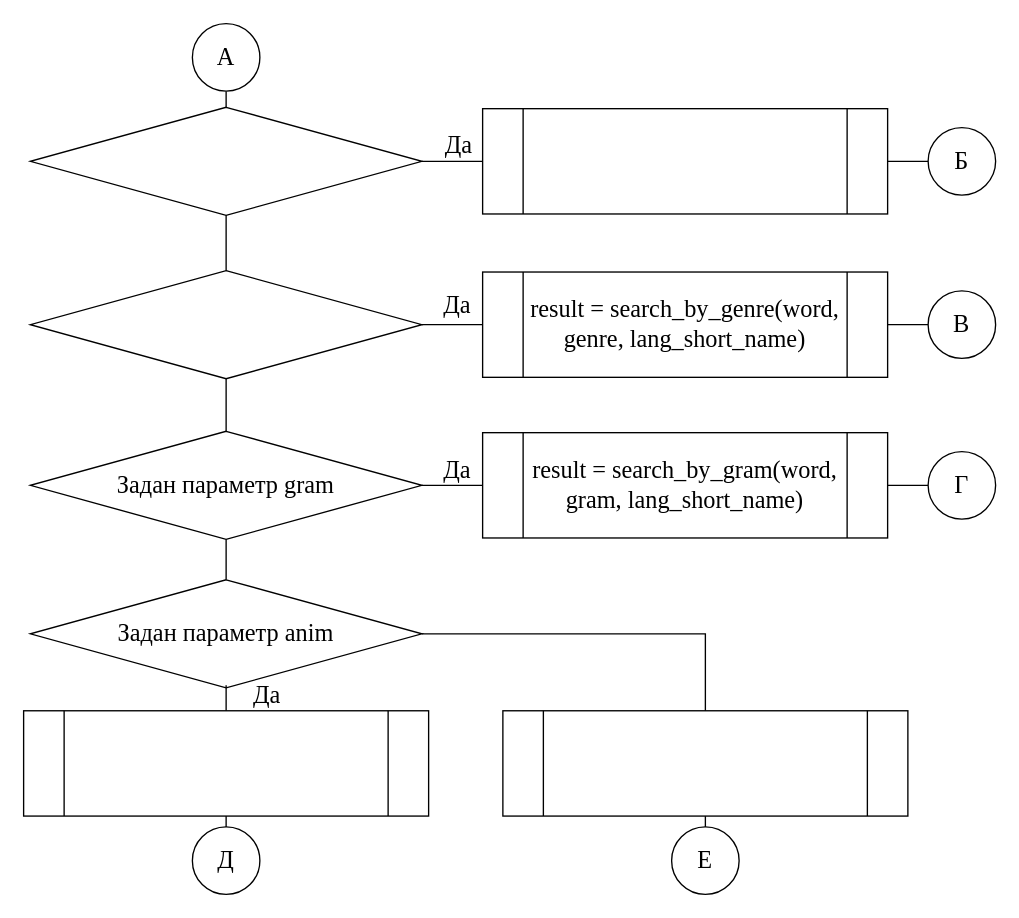
Image size: 1019x918. Some labels were removed from this diagram. The shapes that lost their labels are listed below. From the top down, each one's box as (x1, y1, x2, y2) in pixels, then its label:
(29, 106, 422, 215): Задан параметр pos
(481, 107, 888, 214): result = search_by_pos(word, pos, lang_short_name)
(29, 269, 422, 379): Задан параметр genre
(22, 709, 429, 816): result = search_by_anim(word, anim)
(502, 709, 908, 816): Вернуть пустую таблицу
